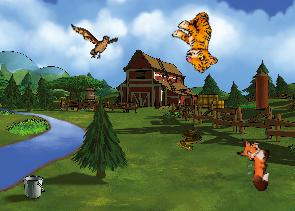eagle: (71, 23, 118, 59)
fox: (234, 137, 272, 191)
tiger: (165, 6, 233, 76)
